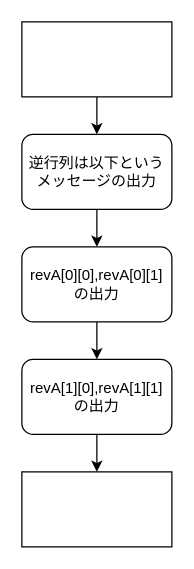
This 194x569 diagram has some shape labels left out. The shapes that lost their labels are listed below. From the top down, each one's centre as x and y in pixels, then its label:
pixel 96 59: outout()関数 開始
pixel 96 509: 終了
